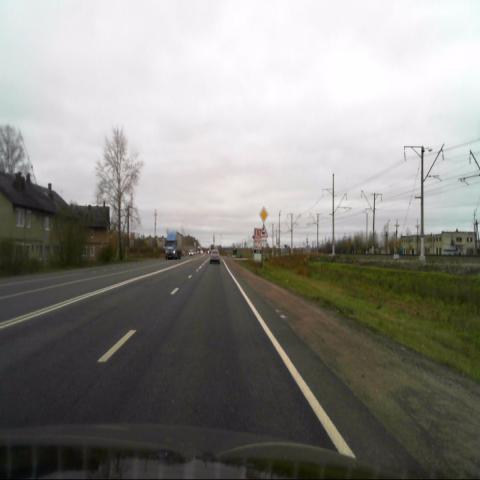1_2: (260, 224, 268, 238)
2_1: (258, 205, 268, 223)
